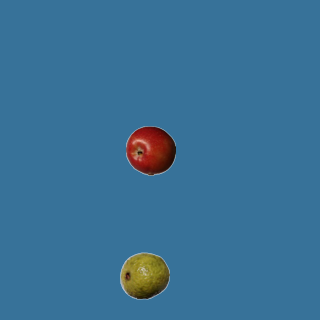Apple Braeburn: (125, 125, 175, 175)
Guava: (119, 250, 169, 300)
